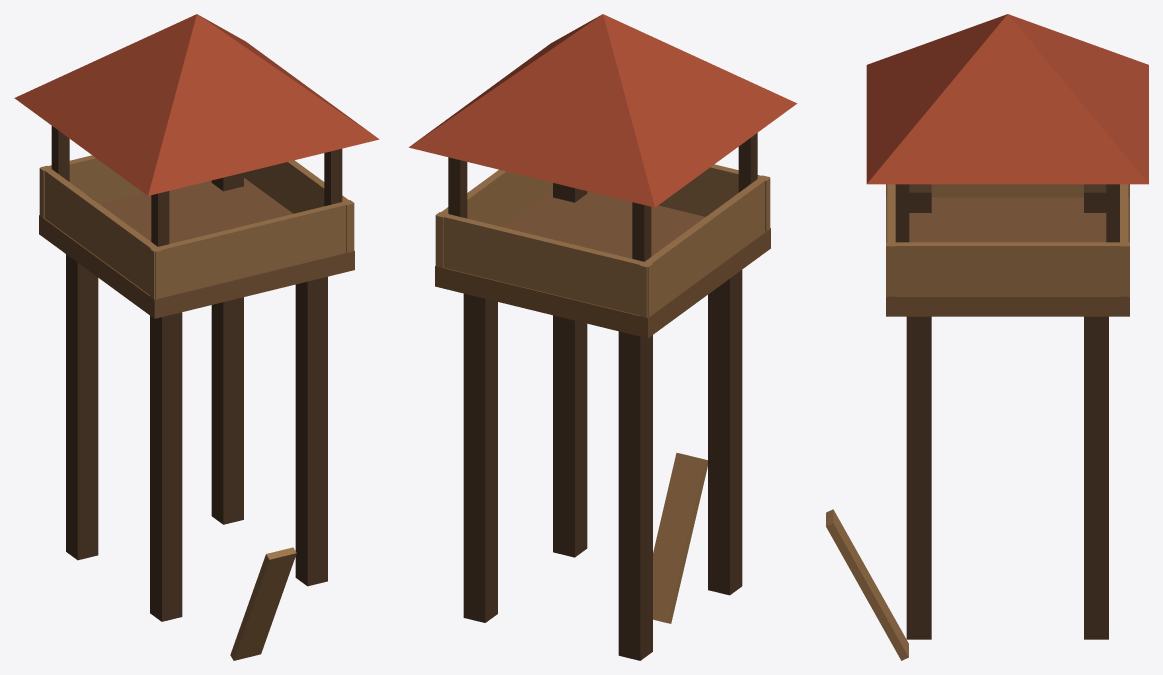
The model's file is watchtower.glb.
3 renders of one model, left to right at view 1: azimuth 30°, elevation 25°; view 2: azimuth 150°, elevation 25°; view 3: azimuth 270°, elevation 25°, orthographic. The views are drawn at different scales.
Visible parts, largest first — view 1: watchtower; view 2: watchtower; view 3: watchtower.
Boxes of the visible parts, <box> form: watchtower: <box>14,14,379,660</box>; watchtower: <box>409,14,797,660</box>; watchtower: <box>826,14,1148,660</box>.
Bounding box in the file's own units: 5.09 × 12.74 × 5.83.
